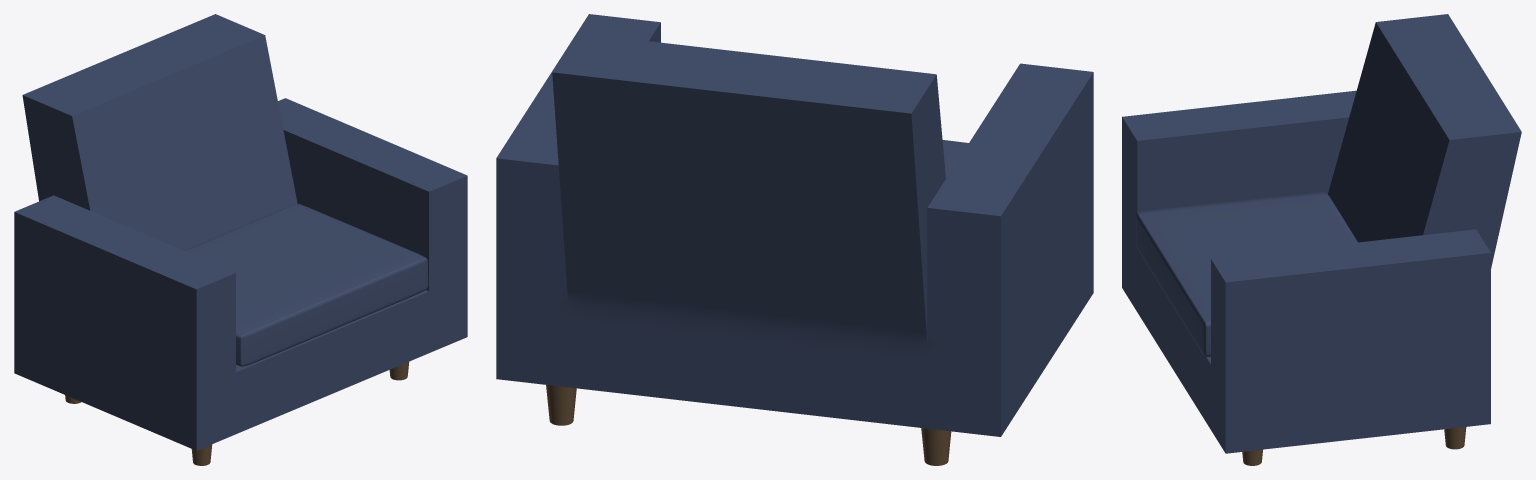
Rendered from love_seat.fbx.
3 views of the same model, side by side, from view 1: azimuth 30°, elevation 25°; view 2: azimuth 150°, elevation 25°; view 3: azimuth 270°, elevation 25° (orthographic). The views are drawn at different scales.
Visible parts, largest first — view 1: love_seat; view 2: love_seat; view 3: love_seat.
Part boxes in pixels (bbox=[...]): love_seat: bbox=[14, 14, 467, 465]; love_seat: bbox=[496, 14, 1093, 465]; love_seat: bbox=[1122, 14, 1521, 465].
Bounding box in the file's own units: 32.63 × 23.44 × 28.22.
